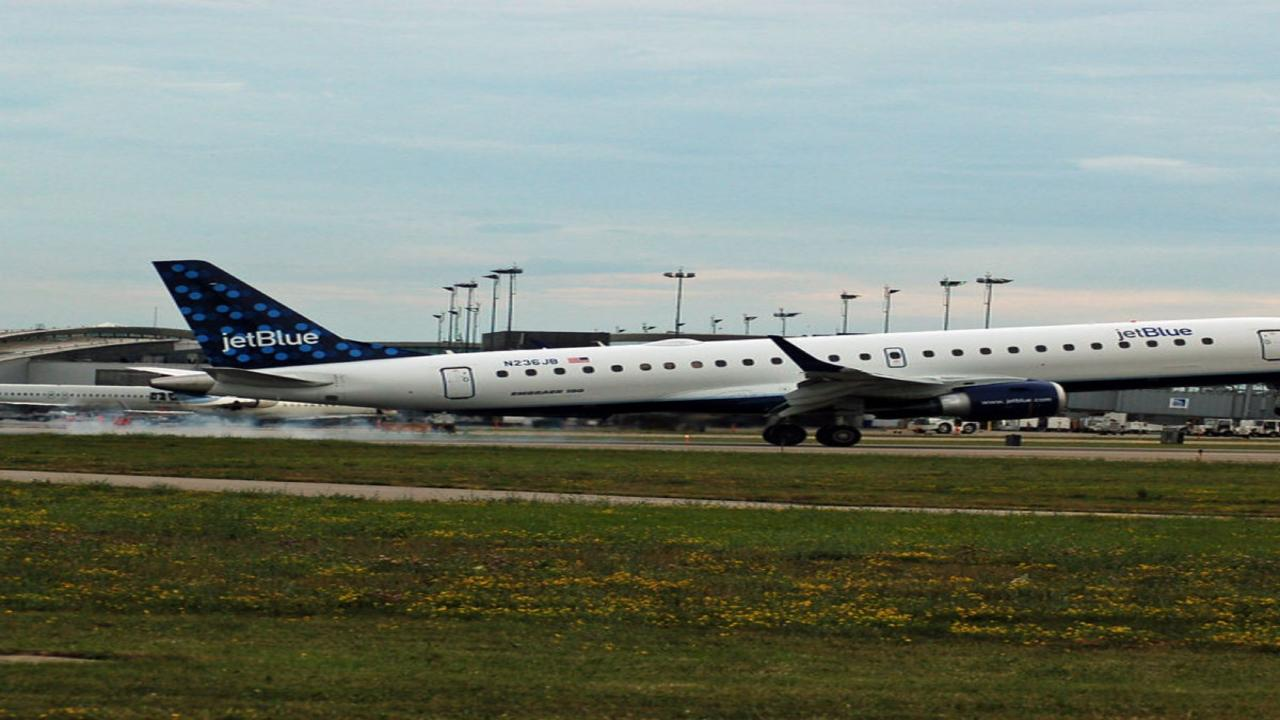Airplane: (105, 237, 1280, 458)
